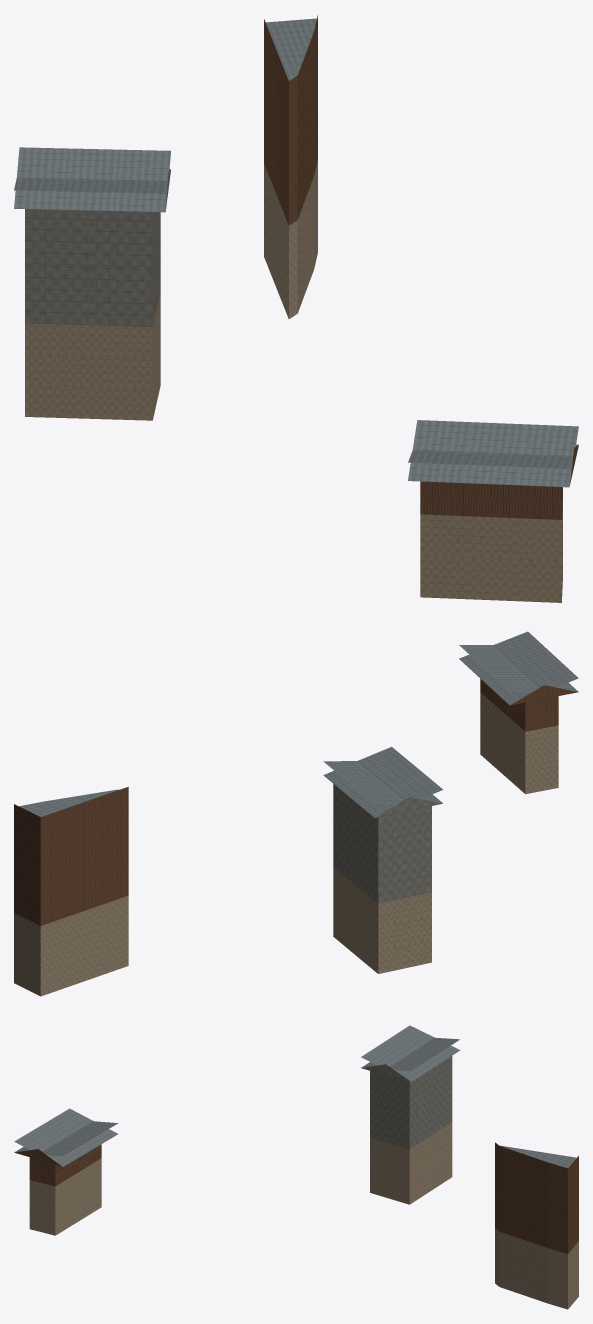
File: bld_c43_31_268.gltf
3 views of the same model, one above another, from view 1: azimuth 30°, elevation 25°; view 2: azimuth 150°, elevation 25°; view 3: azimuth 270°, elevation 25° (orthographic). The views are drawn at different scales.
Parts seen in each view (by area): view 1: bld_c43_31_268; view 2: bld_c43_31_268; view 3: bld_c43_31_268.
Part boxes in pixels (box(x1,y1,x2,y2)): bld_c43_31_268: box(14, 15, 578, 602); bld_c43_31_268: box(14, 631, 578, 996); bld_c43_31_268: box(14, 1025, 578, 1309).
Size of the model in its own units: 24.94 by 14.5 by 47.07.
6 materials, 6 textured.
